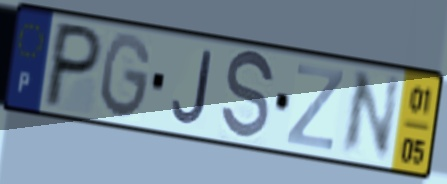G: (98, 30, 154, 123)
J: (169, 48, 215, 128)
N: (336, 68, 404, 161)
P: (39, 18, 107, 111)
S: (218, 48, 277, 145)
Z: (283, 61, 348, 154)
